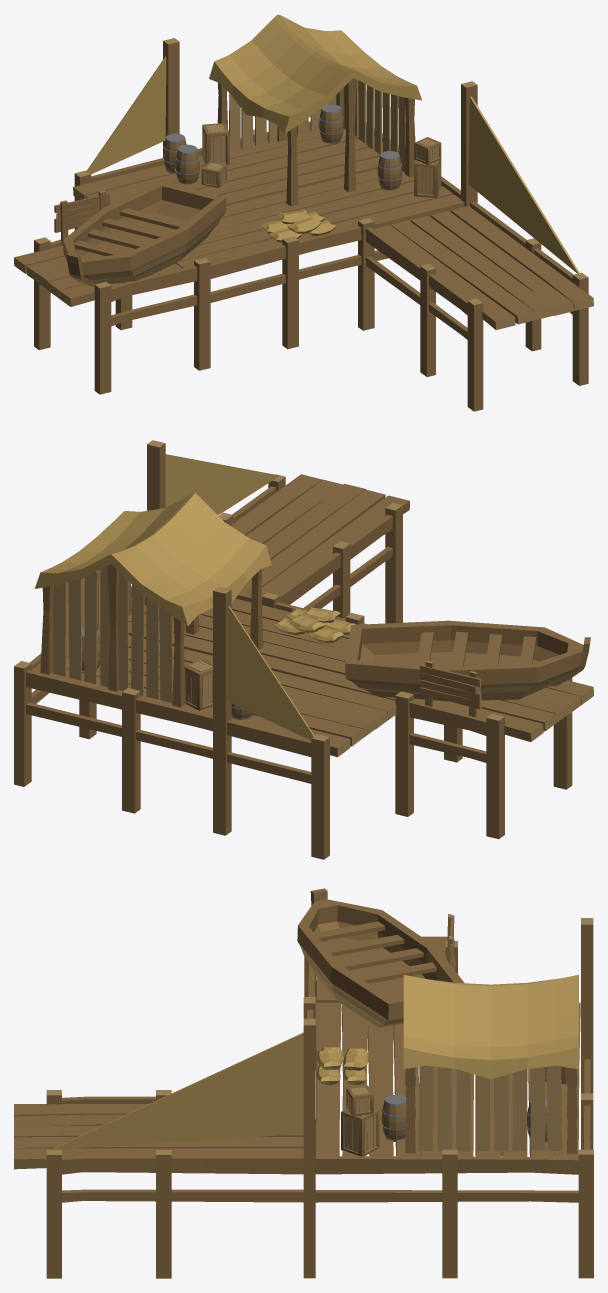
File: Port_FirstAge_Level2.glb
3 views of the same model, one above another, from view 1: azimuth 30°, elevation 25°; view 2: azimuth 150°, elevation 25°; view 3: azimuth 270°, elevation 25° (orthographic). The views are drawn at different scales.
Parts seen in each view (by area): view 1: Port_FirstAge_Level2; view 2: Port_FirstAge_Level2; view 3: Port_FirstAge_Level2.
Boxes of the visible parts, bbox=[...] form: Port_FirstAge_Level2: bbox=[14, 14, 593, 411]; Port_FirstAge_Level2: bbox=[14, 440, 593, 859]; Port_FirstAge_Level2: bbox=[14, 888, 593, 1278].
Size of the model in its own units: 1.84 by 0.9712 by 1.98.
